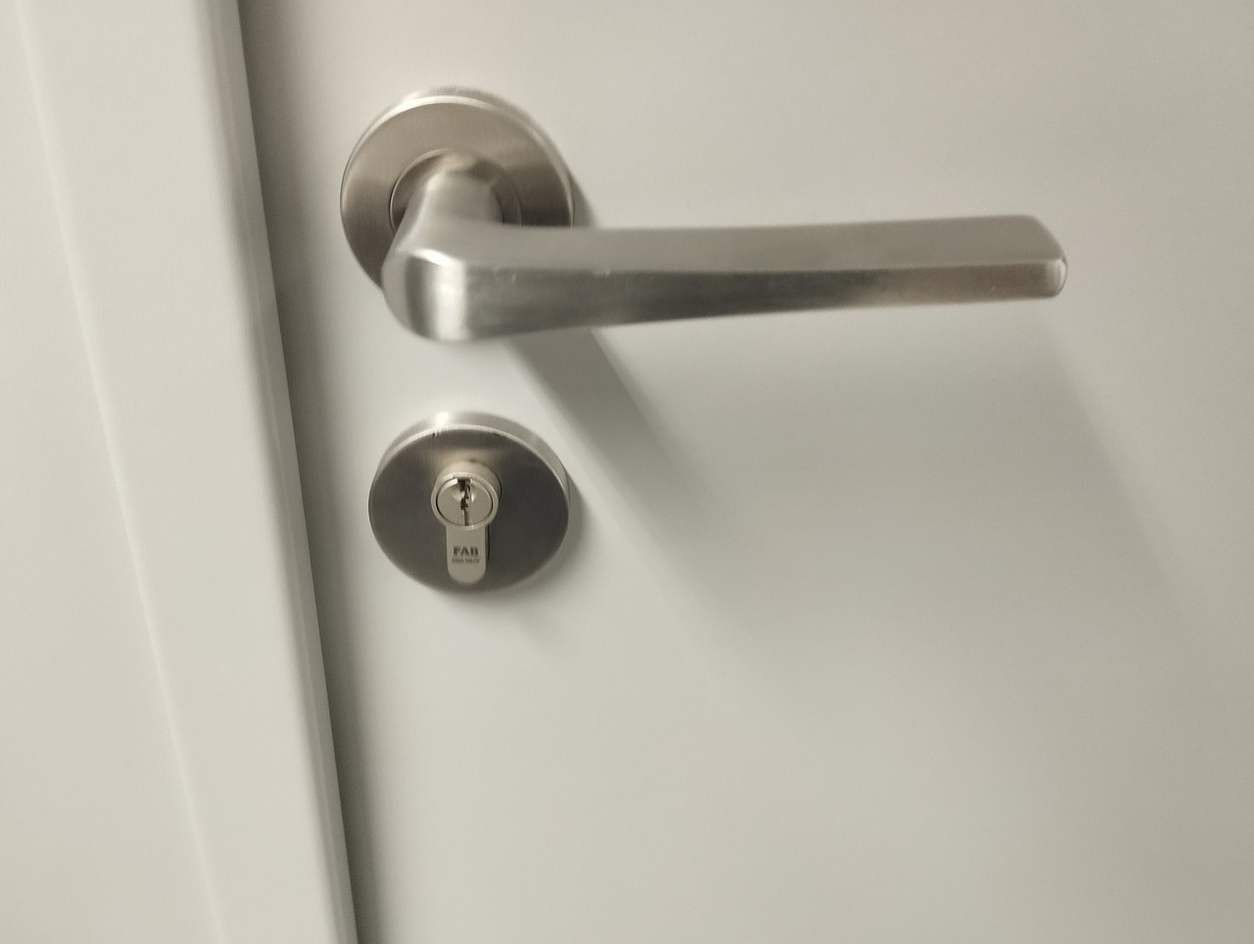Door-handle: (329, 84, 833, 565)
